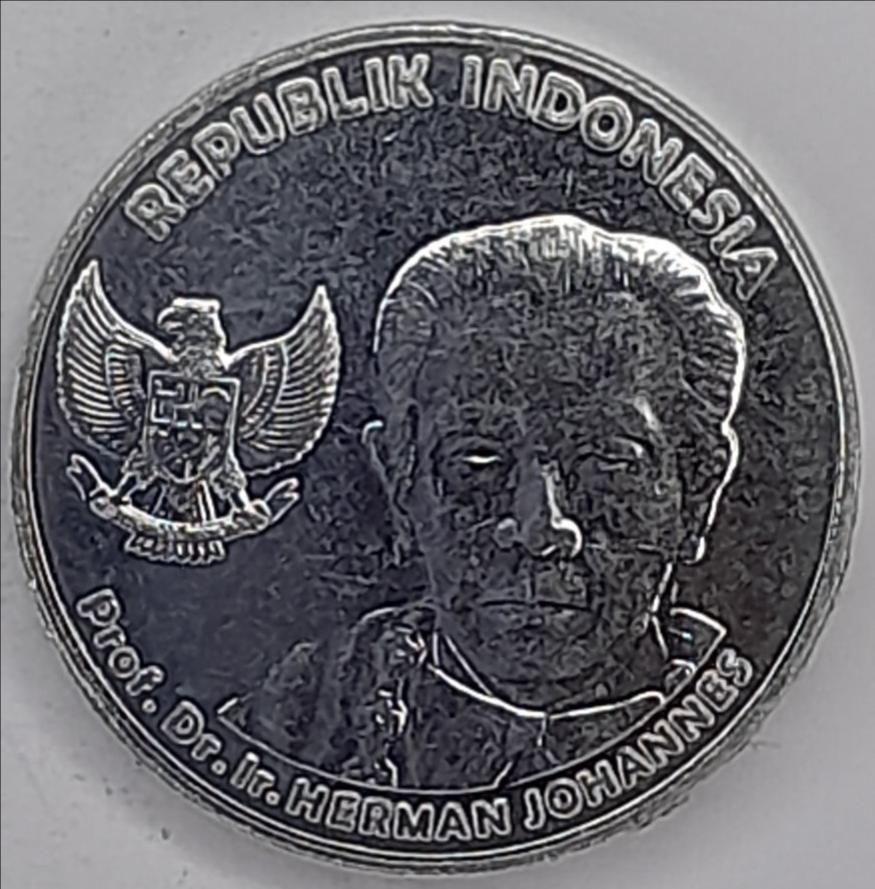coin_100_e2016: (4, 16, 867, 879)
